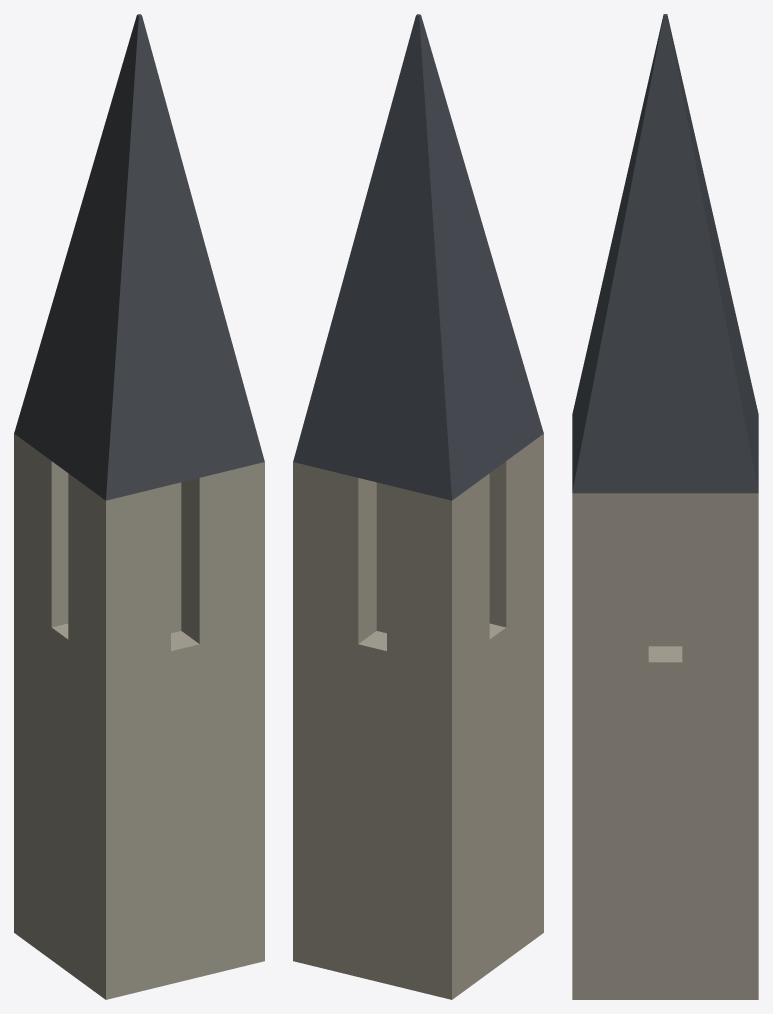
3 renders of one model, left to right at view 1: azimuth 30°, elevation 25°; view 2: azimuth 150°, elevation 25°; view 3: azimuth 270°, elevation 25°, orthographic.
Visible parts, largest first — view 1: body_stone, roof_slate; view 2: body_stone, roof_slate; view 3: body_stone, roof_slate.
Part boxes in pixels (left/top/right/bottom): body_stone: left=14, top=434, right=264, bottom=999; roof_slate: left=14, top=14, right=264, bottom=500; body_stone: left=293, top=434, right=543, bottom=999; roof_slate: left=293, top=14, right=543, bottom=500; body_stone: left=572, top=493, right=758, bottom=999; roof_slate: left=572, top=14, right=758, bottom=493.
Size of what is drawn, in the model's own units: 5 by 28 by 5.
